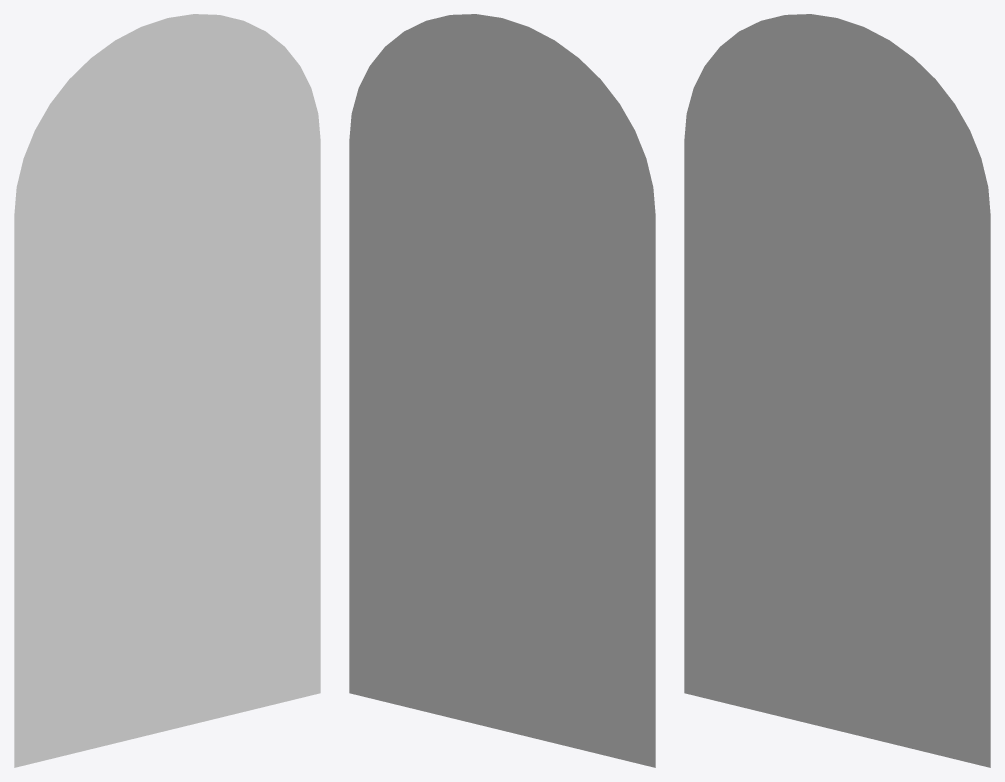
The model's file is door_solid.glb.
The picture shows the model from 3 angles, left to right: view 1: azimuth 30°, elevation 25°; view 2: azimuth 150°, elevation 25°; view 3: azimuth 330°, elevation 25°; orthographic projection.
Visible parts, largest first — view 1: node_id4; view 2: node_id4; view 3: node_id4.
Part boxes in pixels (x1,y1,x2,y2): node_id4: (14,14,320,767); node_id4: (349,14,655,767); node_id4: (684,14,990,767).
Bounding box in the file's own units: 0.2304 × 0.512 × 0.
Materials: 1 (1 with a texture image).
